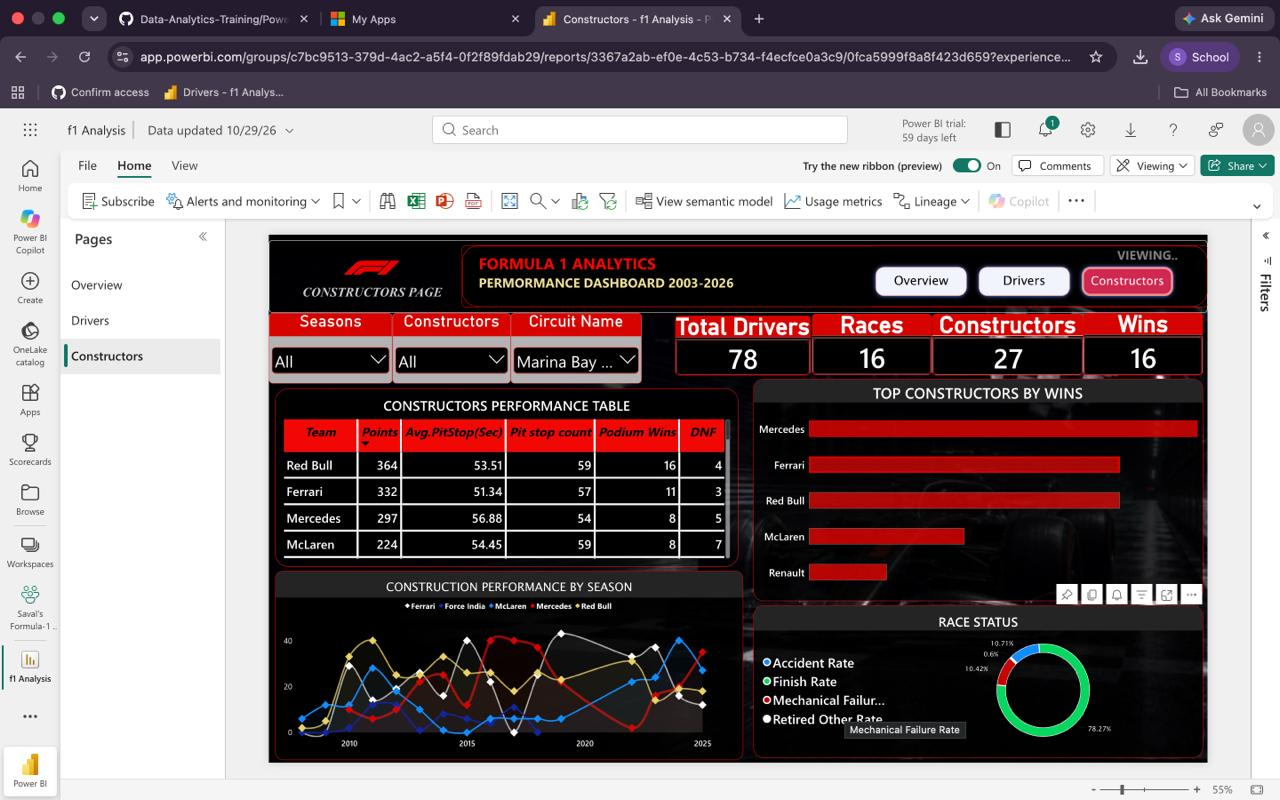

What the dashboard file says about the page in this screenshot:
{"tool":"powerbi","page":{"name":"Constructors","canvas":[1920,1080],"ordinal":2},"visuals":[{"type":"textbox","box":[0,10.8,1920.2,149],"z":0},{"type":"image","box":[25.9,0,369.4,164.2],"z":1000},{"type":"textbox","box":[58.3,101.5,306.7,62.6],"z":2000},{"type":"clusteredBarChart","title":"TOP CONSTRUCTORS BY WINS","fields":{"Category":["f1_main.constructor_name"],"Y":["f1_main.Total Wins"]},"box":[990,295,920,455],"z":3000},{"type":"slicer","title":"Seasons","fields":{"Values":["f1_main.season"]},"box":[0,159.8,252.7,144.7],"z":4000},{"type":"slicer","title":"Constructors","fields":{"Values":["f1_main.constructor_name"]},"box":[252.7,159.8,241.9,144.7],"z":5000},{"type":"shape","box":[394.7,21.1,1526.3,126.3],"z":7000},{"type":"textbox","box":[428.9,36.8,802.5,122.5],"z":8000},{"type":"cardVisual","title":"Races","fields":{"Data":["Count(f1_main.race_date)"]},"box":[1110,162.5,245,125],"z":9000},{"type":"cardVisual","title":"Total Drivers","fields":{"Data":["Count(f1_main.driver_name)"]},"box":[830,165,277.5,122.5],"z":10000},{"type":"cardVisual","title":" Constructors","fields":{"Data":["Count(f1_main.constructor_name)"]},"box":[1356,162,310,126],"z":11000},{"type":"cardVisual","title":"Wins","fields":{"Data":["Sum(f1_main.is_win)"]},"box":[1665,160,245,127.5],"z":12000},{"type":"donutChart","title":"RACE STATUS","fields":{"Y":["f1_main.Accident Rate","f1_main.Finish Rate","f1_main.Mechanical Failure Rate","f1_main.Retired Other Rate"]},"box":[990,757.5,920,312.5],"z":13000},{"type":"tableEx","title":"CONSTRUCTORS PERFORMANCE TABLE","fields":{"Values":["f1_main.constructor_name","f1_main.Total Points","f1_main.Average Pit Stop Time (sec)","Sum(f1_main.pit_stop_count)","Sum(f1_main.is_podium)","Sum(f1_main.is_dnf)"]},"box":[12.5,315,947.5,365],"z":14000},{"type":"lineChart","title":"CONSTRUCTION PERFORMANCE BY SEASON","fields":{"Category":["f1_main.season"],"Series":["f1_main.constructor_name"],"Y":["f1_main.Total Points"]},"box":[12.5,687.5,957.5,387.5],"z":15000},{"type":"pageNavigator","title":"VIEWING..","box":[1233.3,23.3,626.7,110],"z":15001},{"type":"slicer","title":"Circuit Country","fields":{"Values":["f1_main.circuit_country"]},"box":[494.6,160.7,241.9,144.7],"z":15002}]}

Visuals, with their boxes on the page's 1920x1080 design canvas (x1, y1, x2, y2). These are canvas units, not pixel positions in the 1280x800 screenshot, which may show the page scaled, cropped or inside an application window:
textbox: 0:11:1920:160
image: 26:0:395:164
textbox: 58:102:365:164
"TOP CONSTRUCTORS BY WINS" clusteredBarChart: 990:295:1910:750
"Seasons" slicer: 0:160:253:304
"Constructors" slicer: 253:160:495:304
shape: 395:21:1921:147
textbox: 429:37:1231:159
"Races" cardVisual: 1110:162:1355:288
"Total Drivers" cardVisual: 830:165:1108:288
" Constructors" cardVisual: 1356:162:1666:288
"Wins" cardVisual: 1665:160:1910:288
"RACE STATUS" donutChart: 990:758:1910:1070
"CONSTRUCTORS PERFORMANCE TABLE" tableEx: 12:315:960:680
"CONSTRUCTION PERFORMANCE BY SEASON" lineChart: 12:688:970:1075
"VIEWING.." pageNavigator: 1233:23:1860:133
"Circuit Country" slicer: 495:161:736:305
